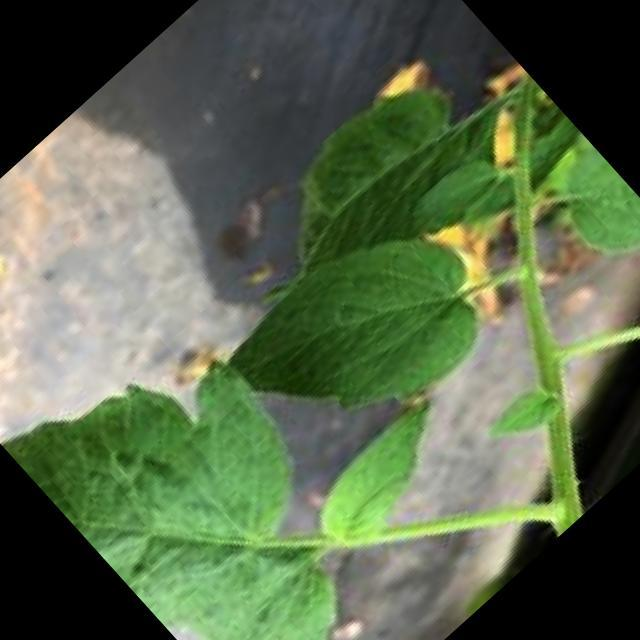Tomato healthy leaf: (0, 356, 430, 640), (226, 233, 480, 409), (296, 78, 491, 269)
